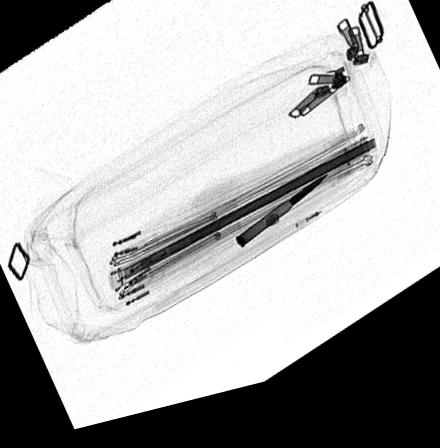Bullet: (233, 188, 331, 259)
